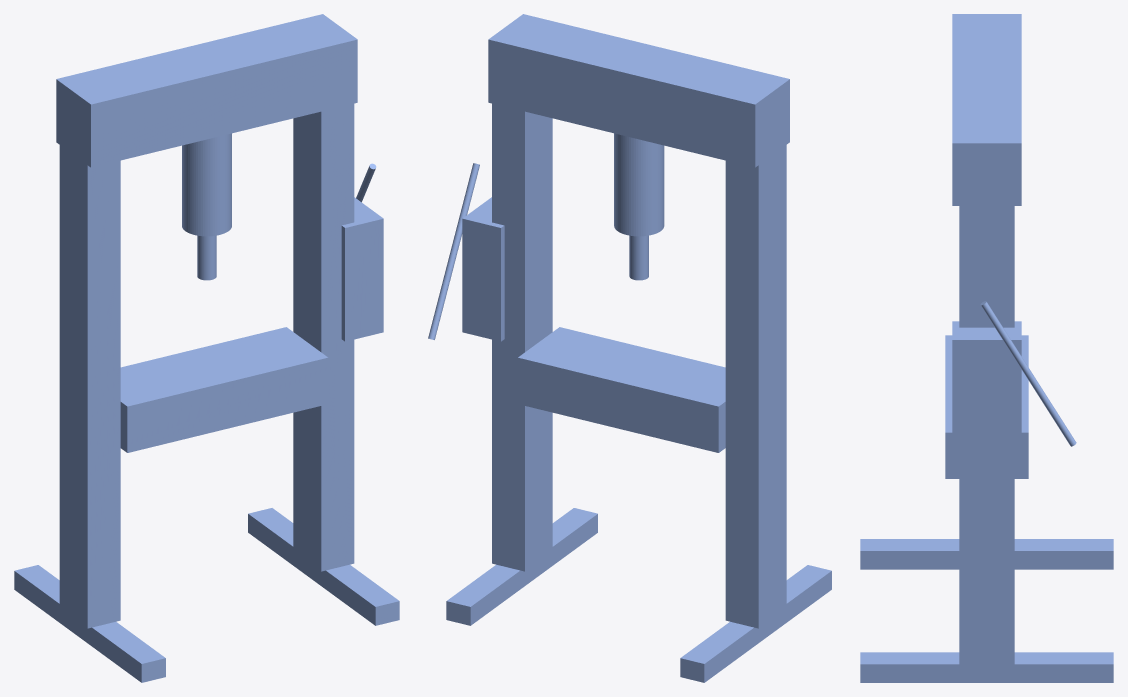
File: hydraulic-press-7e9e2225.glb
3 renders of one model, left to right at view 1: azimuth 30°, elevation 25°; view 2: azimuth 150°, elevation 25°; view 3: azimuth 270°, elevation 25°, orthographic.
Parts seen in each view (by area): view 1: output; view 2: output; view 3: output.
Part boxes in pixels (<box>): output: <box>14,14,399,682</box>; output: <box>428,14,831,682</box>; output: <box>860,14,1113,682</box>.
Bounding box in the file's own units: 1.33 × 2.3 × 0.9741.
